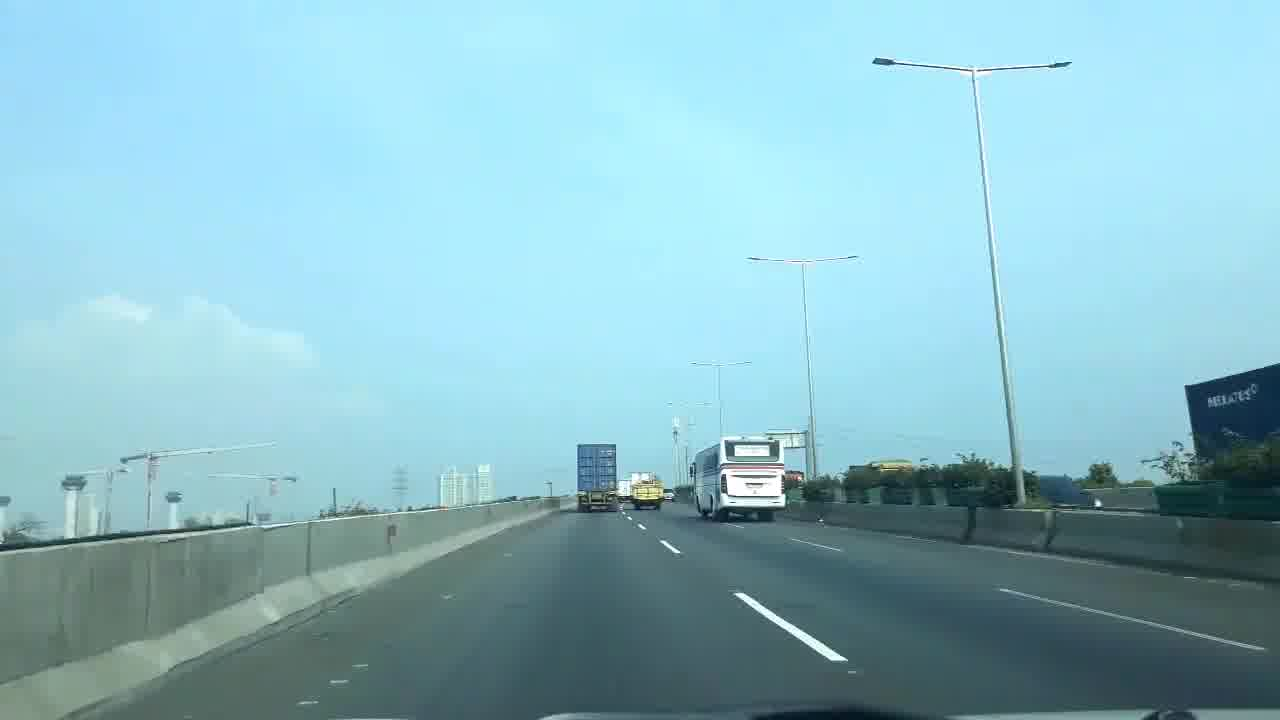plate_positive: (748, 483, 763, 488), (592, 494, 602, 498)
